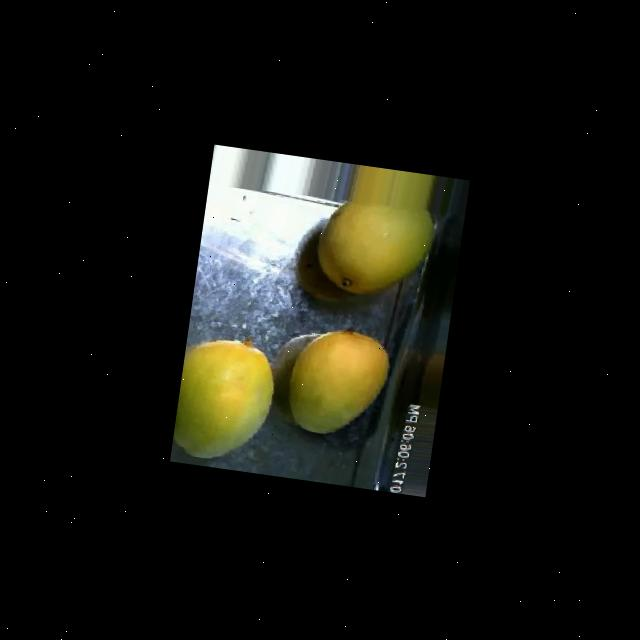Mango: (172, 331, 281, 467), (312, 195, 438, 304), (284, 323, 396, 443)
